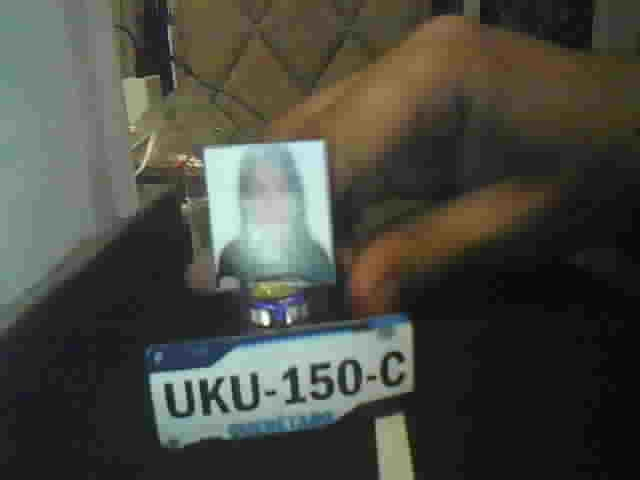PLACA: (142, 307, 417, 453)
ROSTRO: (214, 147, 337, 285)
